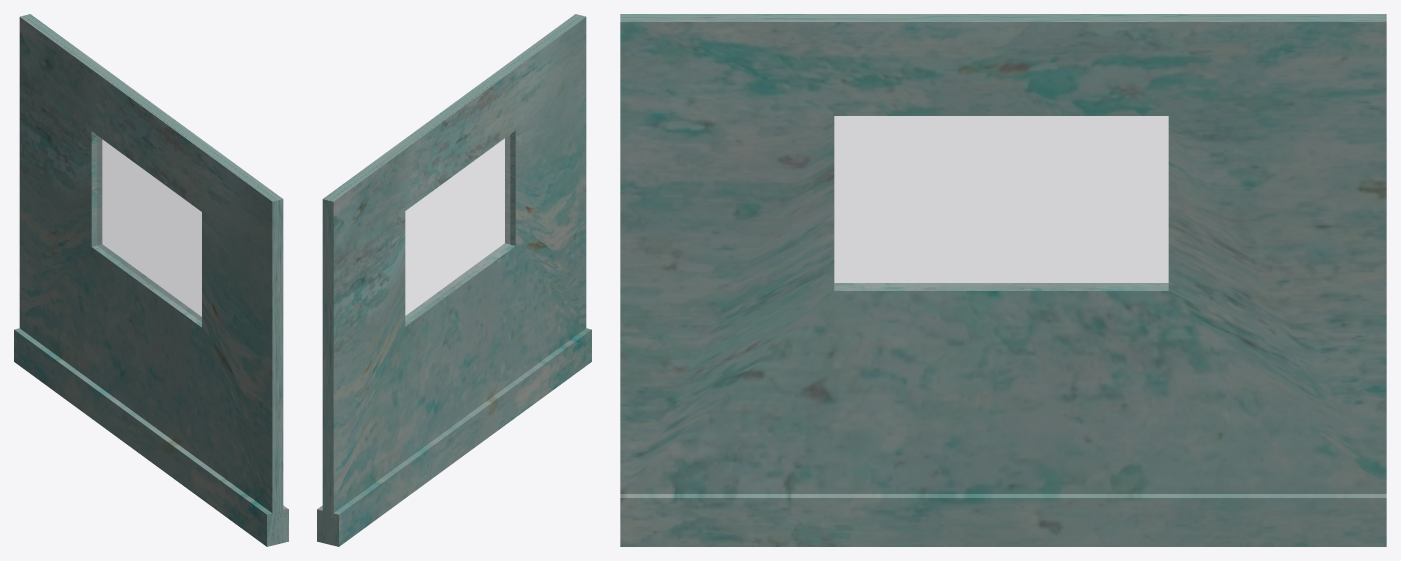
File: Window_Wall.glb
The picture shows the model from 3 angles, left to right: view 1: azimuth 30°, elevation 25°; view 2: azimuth 150°, elevation 25°; view 3: azimuth 270°, elevation 25°; orthographic projection. The views are drawn at different scales.
Visible parts, largest first — view 1: Window Wall; view 2: Window Wall; view 3: Window Wall.
Boxes of the visible parts, x1,y1,x2,y2 form: Window Wall: (14, 14, 288, 546); Window Wall: (317, 14, 591, 546); Window Wall: (620, 14, 1386, 546).
Bounding box in the file's own units: 0.2 × 3 × 4.
Materials: 2 (1 with a texture image).
